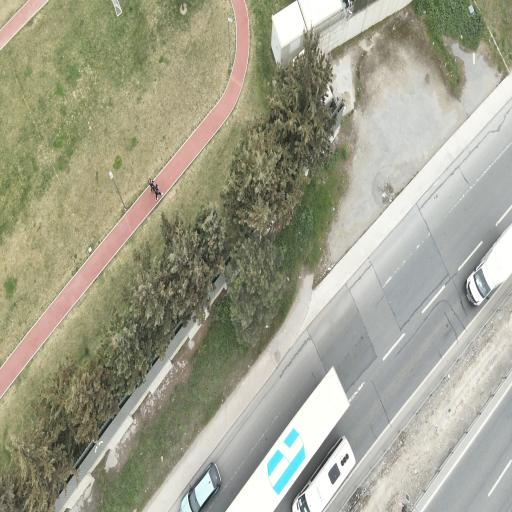car: (292, 437, 355, 512), (181, 463, 221, 511)
person: (154, 184, 161, 201), (148, 178, 154, 191)
truck: (227, 368, 349, 511), (467, 225, 511, 305)
